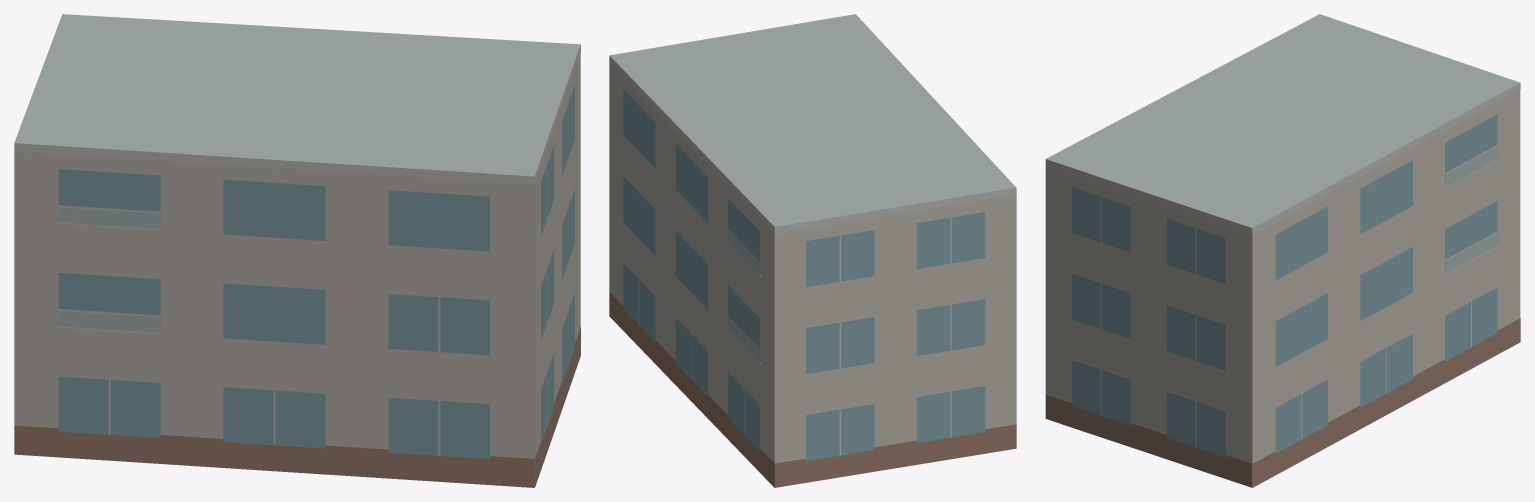
Rendered from survey-upis-32671693.glb.
3 views of the same model, side by side, from view 1: azimuth 30°, elevation 25°; view 2: azimuth 150°, elevation 25°; view 3: azimuth 270°, elevation 25° (orthographic). The views are drawn at different scales.
Visible parts, largest first — view 1: survey-upis-32671693.tmp; view 2: survey-upis-32671693.tmp; view 3: survey-upis-32671693.tmp.
Part boxes in pixels (x1=…): survey-upis-32671693.tmp: x1=14, y1=14, x2=580, y2=487; survey-upis-32671693.tmp: x1=609, y1=14, x2=1016, y2=487; survey-upis-32671693.tmp: x1=1045, y1=14, x2=1520, y2=487.
Size of the model in its own units: 16.19 by 9.15 by 15.17.
